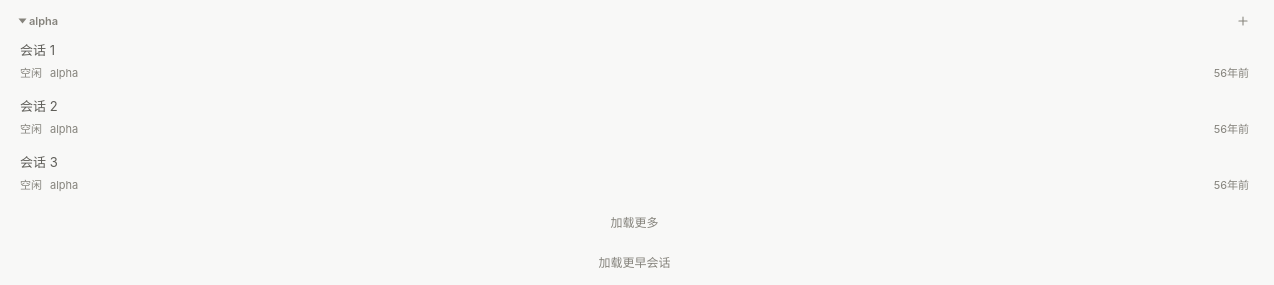
Test: RecentThreads › 在项目组内展示加载失败并允许重试
This screenshot has width=1274, height=285.
Click the button with aria-label "加载“alpha”的更多会话" at {"x": 634, "y": 221}, box [12, 205, 1257, 237]
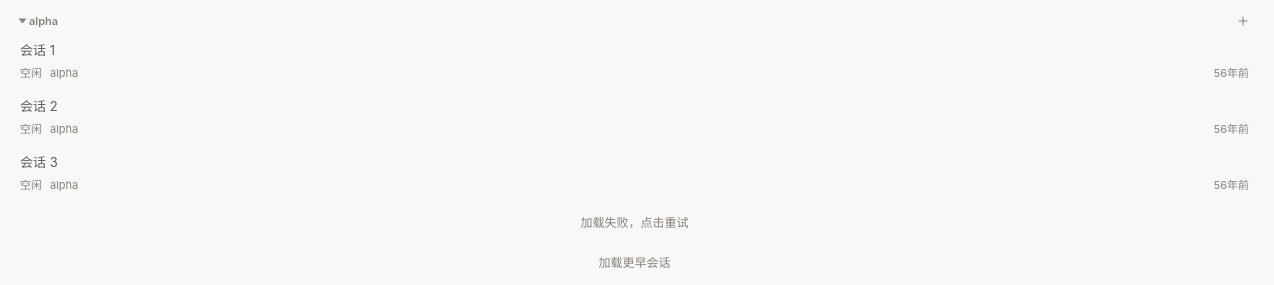
Check: the button with aria-label "重试加载“alpha”的更多会话" reads "加载失败，点击重试"
Click the button with aria-label "重试加载“alpha”的更多会话" at {"x": 634, "y": 221}, box [12, 205, 1257, 237]
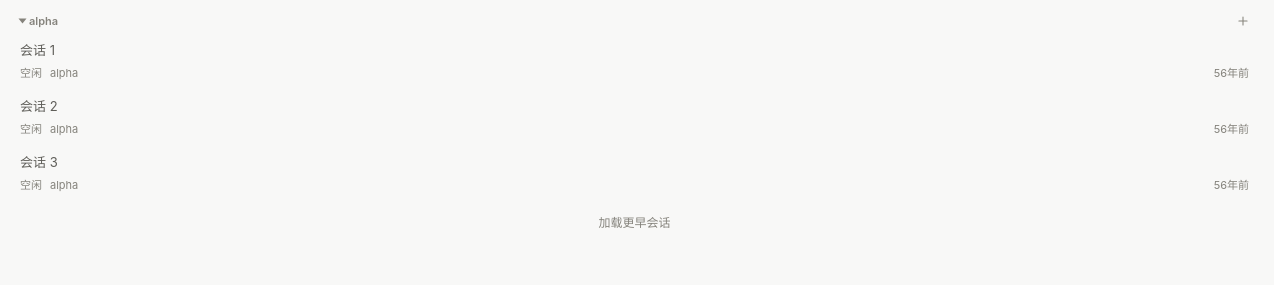
Check: the button "重试加载“alpha”的更多会话" is gone
